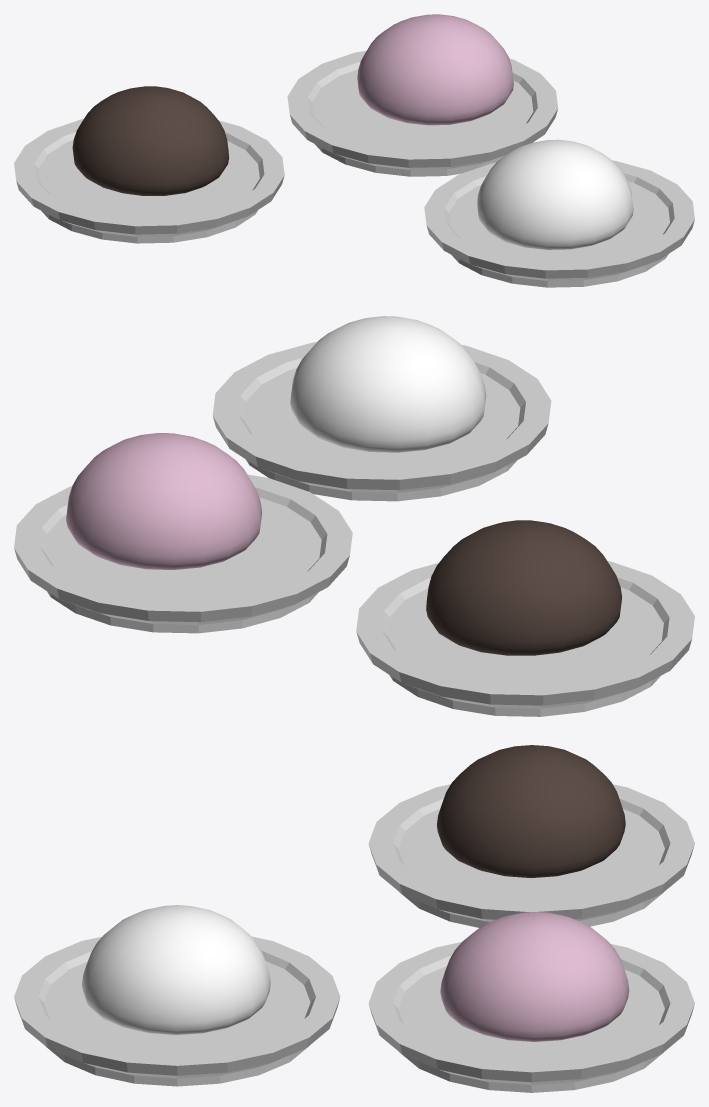
Rendered from mochi_exportation.fbx.
3 renders of one model, top to bottom at view 1: azimuth 30°, elevation 25°; view 2: azimuth 150°, elevation 25°; view 3: azimuth 270°, elevation 25°, orthographic. The views are drawn at different scales.
Visible parts, largest first — view 1: pasted__sphere (×2), plate6, plate5, plate, sphere; view 2: pasted__sphere (×2), plate6, plate5, plate, sphere; view 3: pasted__sphere (×2), plate, plate6, plate5, sphere.
Part boxes in pixels (x1=…): pasted__sphere (×2): x1=72, y1=86, x2=633, y2=249; plate6: x1=287, y1=50, x2=558, y2=176; plate5: x1=14, y1=119, x2=284, y2=243; plate: x1=424, y1=160, x2=694, y2=287; sphere: x1=357, y1=14, x2=513, y2=125; pasted__sphere (×2): x1=290, y1=316, x2=621, y2=655; plate6: x1=14, y1=474, x2=352, y2=633; plate5: x1=356, y1=561, x2=694, y2=716; plate: x1=212, y1=342, x2=551, y2=501; sphere: x1=66, y1=433, x2=262, y2=569; pasted__sphere (×2): x1=82, y1=745, x2=625, y2=1035; plate: x1=14, y1=936, x2=340, y2=1086; plate6: x1=368, y1=942, x2=694, y2=1092; plate5: x1=368, y1=784, x2=694, y2=927; sphere: x1=440, y1=912, x2=629, y2=1041.
Bounding box in the file's own units: 0.899 × 0.1695 × 0.868.
